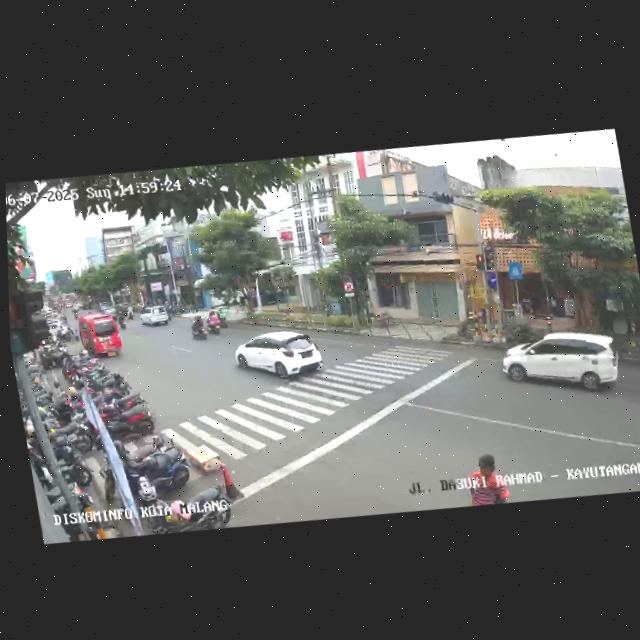car: (496, 319, 627, 410), (231, 322, 328, 393), (76, 310, 125, 363), (136, 304, 172, 332)
motorcycle: (187, 310, 211, 341), (206, 309, 223, 336), (116, 309, 129, 330)
person: (459, 448, 512, 509)
